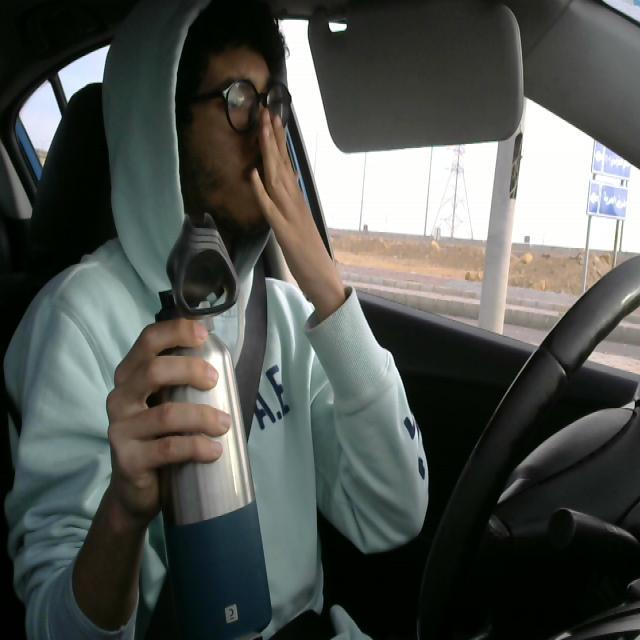drinking: (146, 204, 276, 640)
